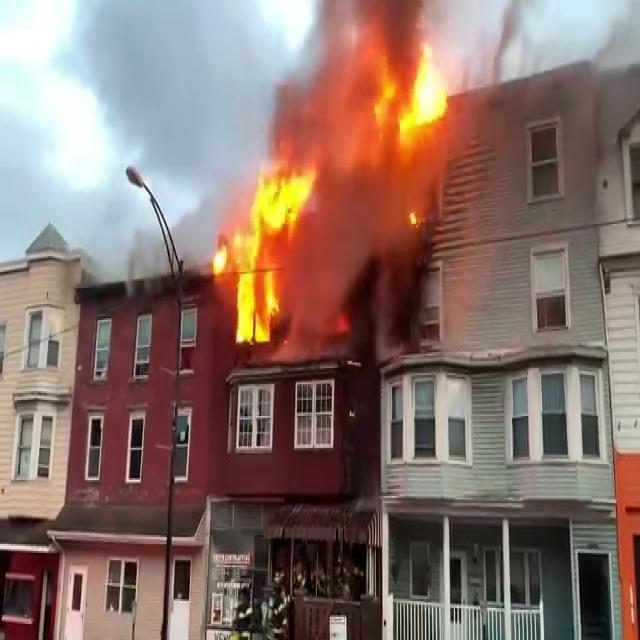Fire: (208, 150, 322, 348), (397, 17, 461, 138)
Smoke: (275, 4, 457, 344)
